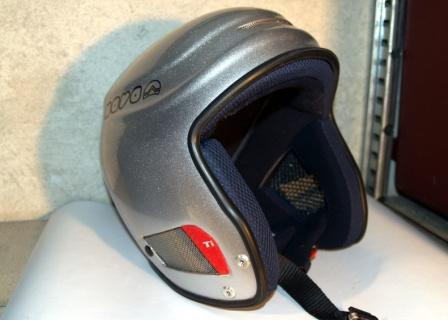helmet: (84, 13, 262, 300)
